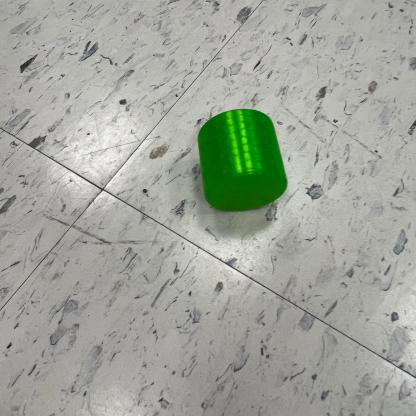green cylinder: (196, 107, 289, 214)
